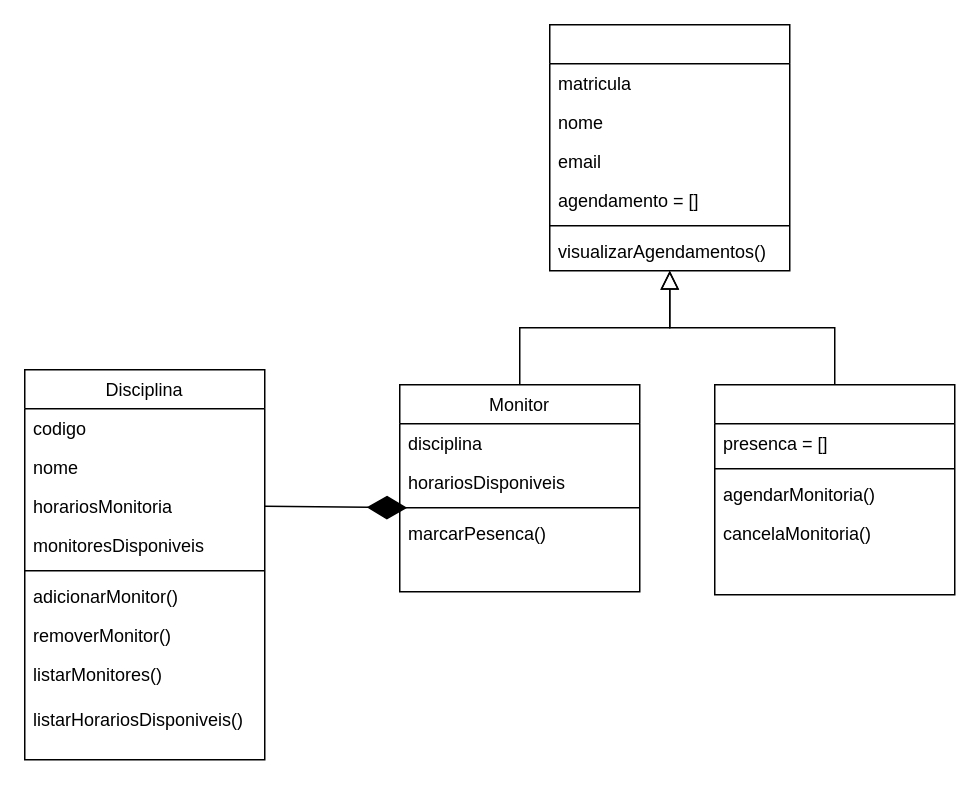
Image size: 980x785. Some labels were removed from this diagram. Each missing label, with the box of its shape:
Estudante: (713, 383, 955, 595)
Usuario: (548, 23, 790, 271)
